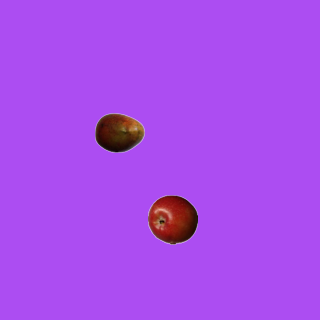Apple Braeburn: (147, 194, 197, 244)
Mango Red: (94, 107, 144, 157)
